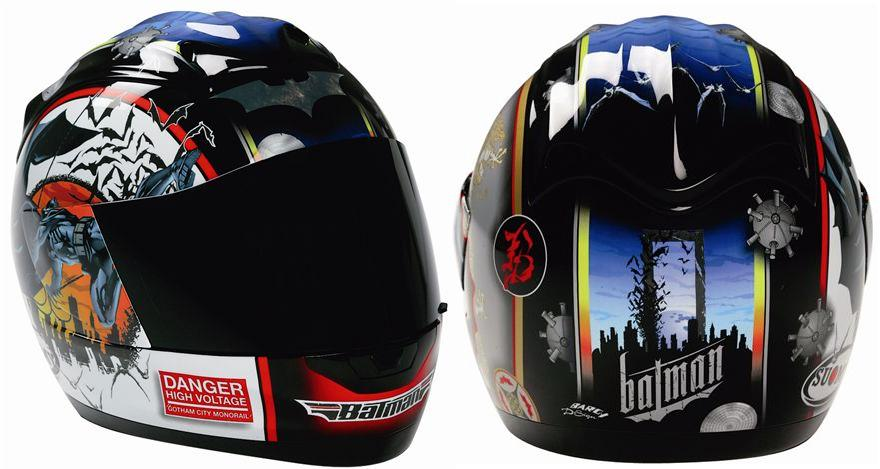helmet: (18, 19, 433, 452), (458, 8, 863, 446)
